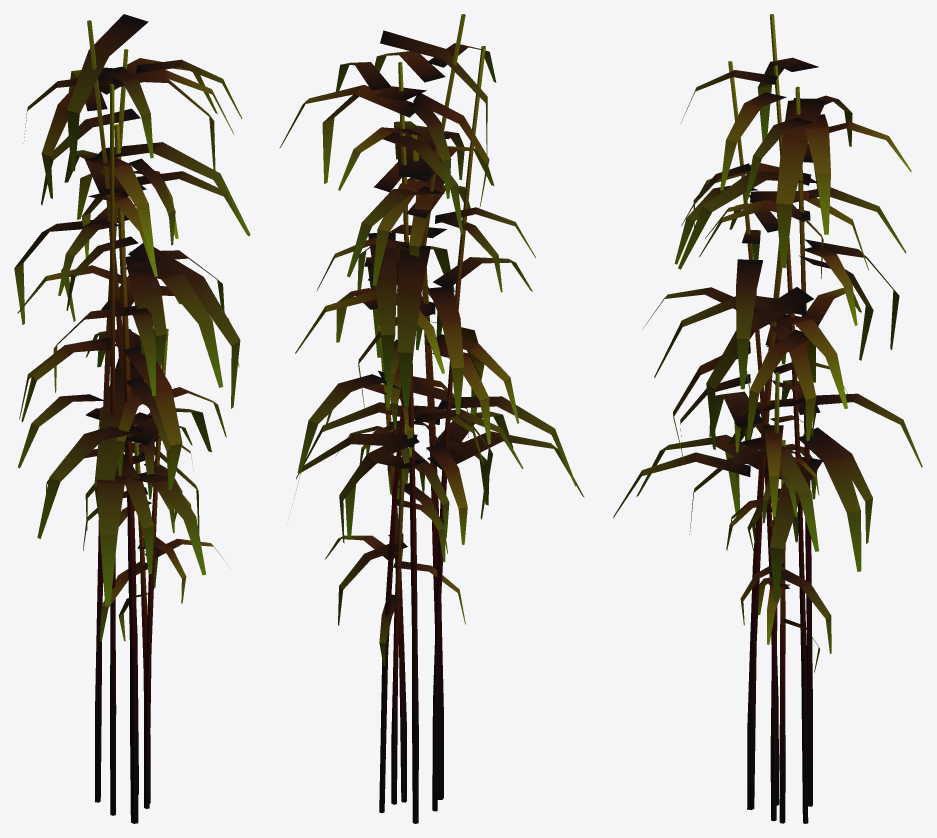
Rendered from bamboo_c.glb.
3 views of the same model, side by side, from view 1: azimuth 30°, elevation 25°; view 2: azimuth 150°, elevation 25°; view 3: azimuth 270°, elevation 25° (orthographic). The views are drawn at different scales.
Parts seen in each view (by area): view 1: bamboo_c; view 2: bamboo_c; view 3: bamboo_c.
Part boxes in pixels (x1=…): bamboo_c: x1=14, y1=14, x2=250, y2=823; bamboo_c: x1=279, y1=14, x2=584, y2=823; bamboo_c: x1=613, y1=14, x2=922, y2=823.
Bounding box in the file's own units: 2.55 × 8.22 × 2.96.
Materials: 1 (1 with a texture image).
